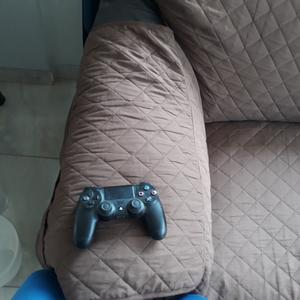controller: (73, 181, 166, 249)
